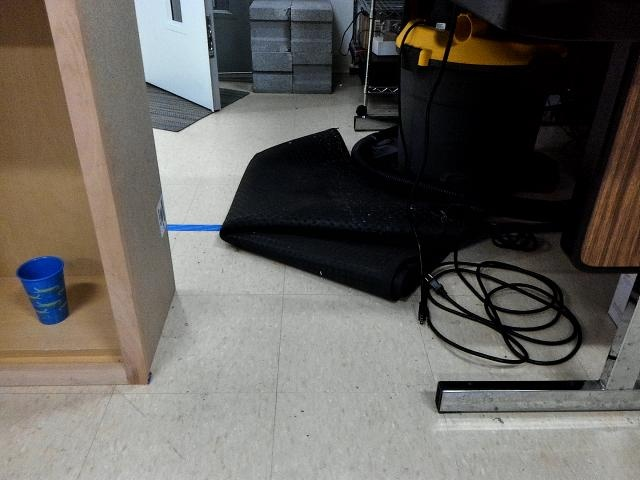water_cup: (13, 250, 74, 324)
